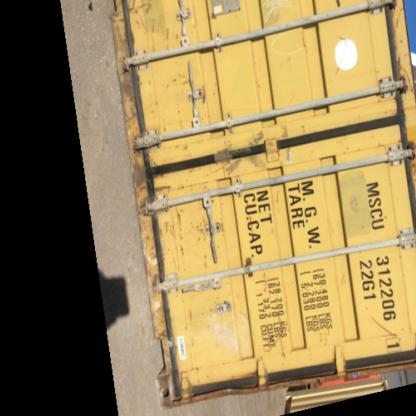Damage: (160, 210, 192, 262), (182, 156, 232, 182), (125, 1, 159, 37), (206, 376, 256, 400), (326, 34, 352, 80), (270, 314, 292, 362), (384, 6, 406, 48), (366, 312, 398, 340), (155, 184, 215, 197), (192, 217, 215, 248), (397, 63, 415, 99), (360, 212, 388, 232), (201, 300, 223, 324), (315, 324, 334, 350), (166, 26, 184, 52), (168, 74, 196, 90), (180, 360, 202, 378), (135, 73, 156, 91), (175, 104, 189, 130), (200, 85, 215, 105), (133, 47, 160, 57), (168, 142, 194, 152), (298, 122, 312, 140), (272, 187, 284, 207), (184, 308, 199, 324), (200, 254, 212, 272), (148, 100, 160, 116), (161, 119, 170, 137), (190, 338, 200, 352)
